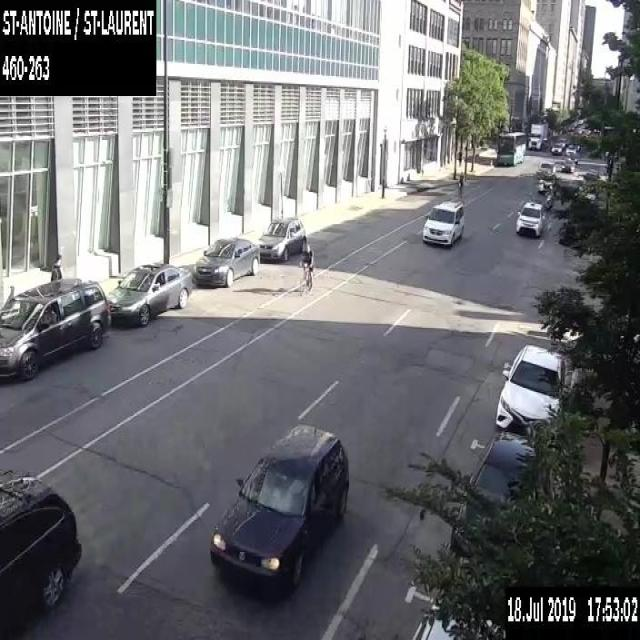bus: (496, 131, 525, 165)
cyclist: (297, 243, 313, 297), (457, 171, 465, 200)
pedestrian: (49, 255, 64, 280)
vehicle: (207, 420, 351, 601), (0, 465, 82, 639), (450, 430, 551, 557), (0, 275, 107, 385), (495, 343, 567, 438), (106, 261, 192, 325), (411, 598, 504, 638), (191, 235, 259, 287), (257, 216, 306, 260), (422, 200, 464, 247), (514, 200, 544, 236), (527, 121, 548, 149), (536, 178, 552, 194), (538, 160, 554, 176), (561, 158, 574, 172), (550, 142, 562, 154), (564, 143, 576, 154), (557, 137, 567, 147), (568, 152, 577, 163)
